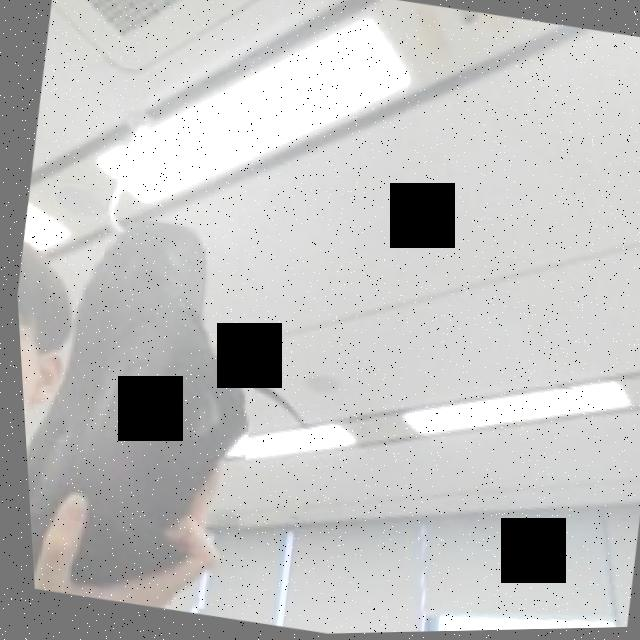shoe: (9, 198, 285, 622)
